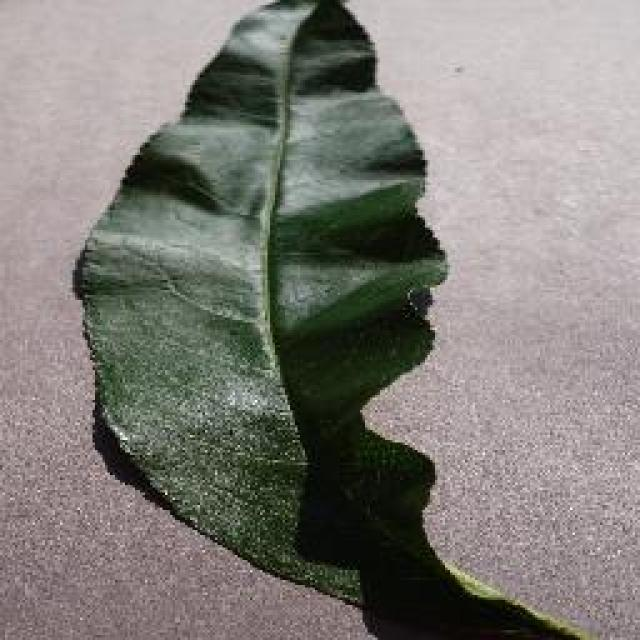Pea_healthy: (69, 8, 471, 566)
